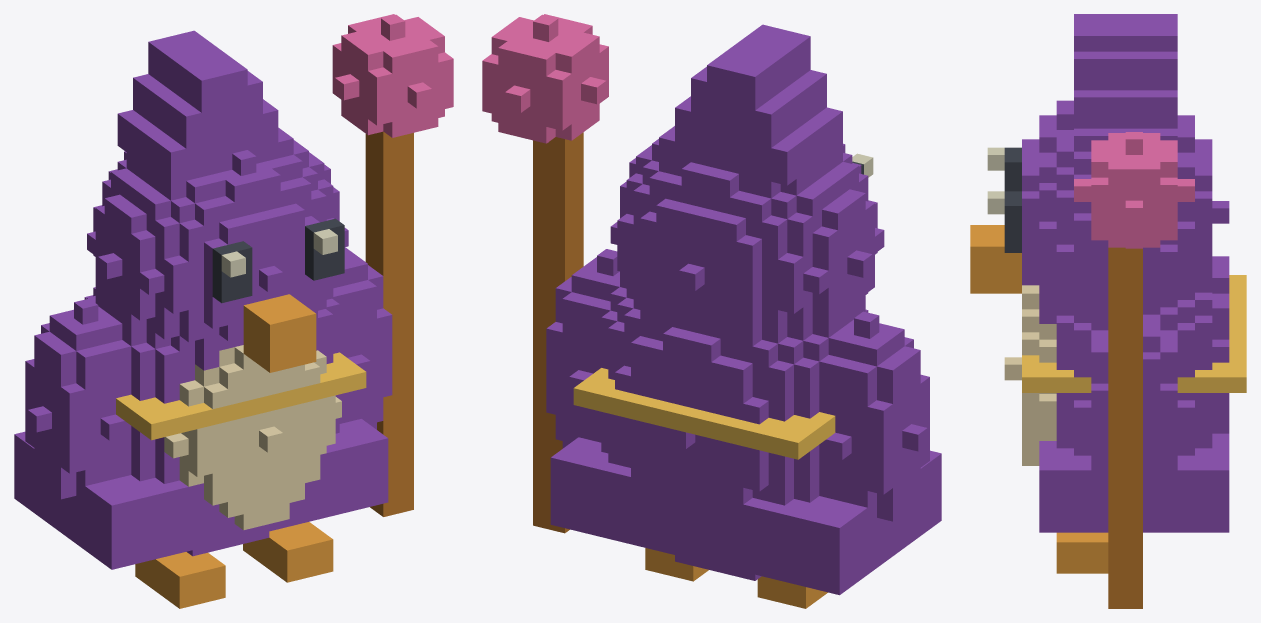
The model's file is voxel_32_10318.glb.
The picture shows the model from 3 angles, left to right: view 1: azimuth 30°, elevation 25°; view 2: azimuth 150°, elevation 25°; view 3: azimuth 270°, elevation 25°; orthographic projection. The views are drawn at different scales.
Visible parts, largest first — view 1: prop_10318; view 2: prop_10318; view 3: prop_10318.
Part boxes in pixels (box(x1,y1,x2,y2)): prop_10318: box(14, 14, 453, 608); prop_10318: box(482, 14, 941, 608); prop_10318: box(970, 14, 1246, 608).
Size of the model in its own units: 0.7003 by 0.83 by 0.415.
